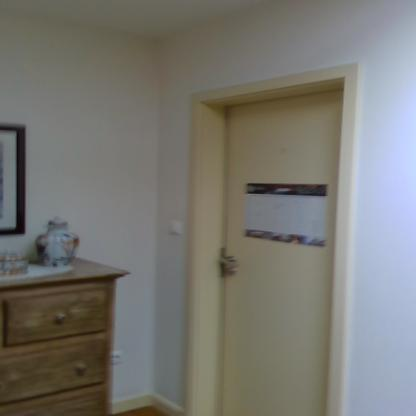door: (223, 103, 334, 416)
lever: (216, 254, 242, 272)
